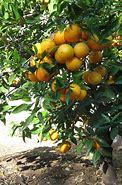orange: (20, 23, 104, 93), (56, 41, 99, 66), (54, 42, 73, 61)
